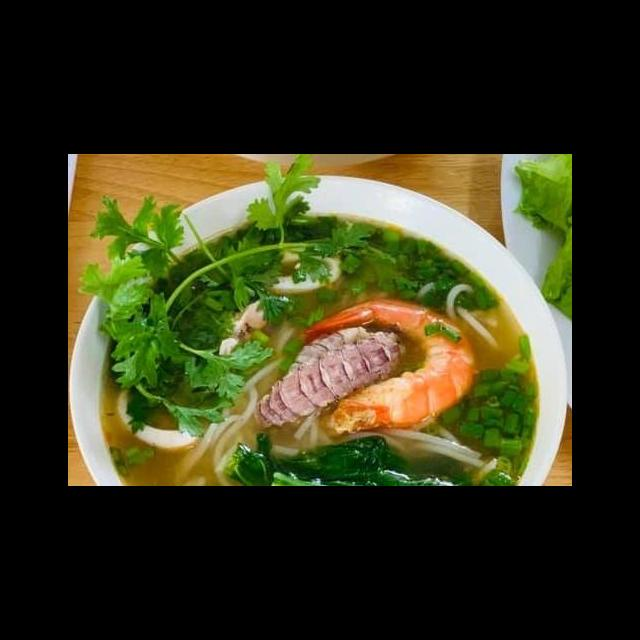bun: (171, 350, 292, 486), (349, 413, 500, 485), (414, 277, 505, 355)
bun hai san: (81, 184, 572, 486)
muc: (114, 375, 214, 455), (256, 239, 347, 299)
tom: (296, 291, 478, 443)
tom tit: (252, 325, 414, 435)
